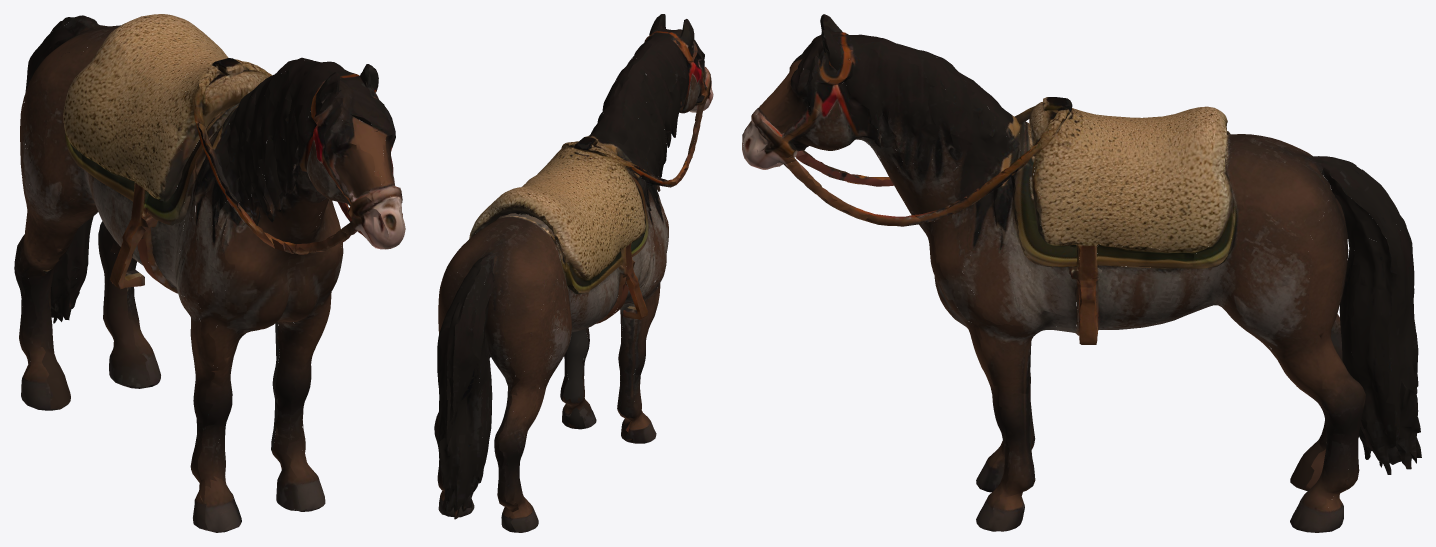
The model's file is caballo_zaino.glb.
3 renders of one model, left to right at view 1: azimuth 30°, elevation 25°; view 2: azimuth 150°, elevation 25°; view 3: azimuth 270°, elevation 25°, orthographic. The views are drawn at different scales.
Visible parts, largest first — view 1: caballo_zaino; view 2: caballo_zaino; view 3: caballo_zaino.
Boxes of the visible parts, left/top/right/bottom form: caballo_zaino: left=14, top=14, right=405, bottom=532; caballo_zaino: left=434, top=14, right=713, bottom=532; caballo_zaino: left=742, top=14, right=1421, bottom=532.
Size of the model in its own units: 0.7619 by 1.9 by 2.42.
Materials: 1 (1 with a texture image).
